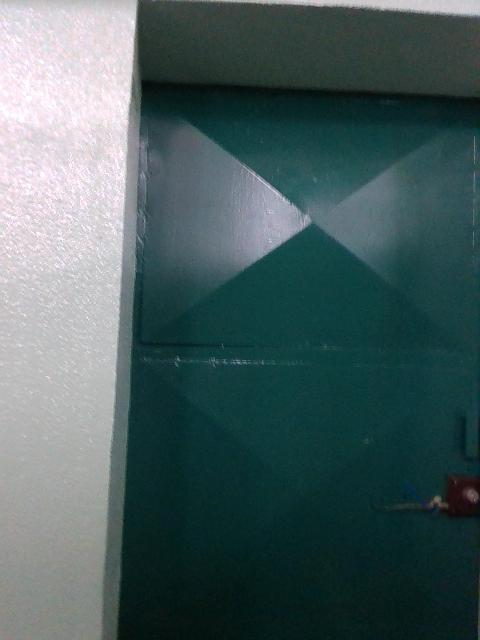closed_door: (116, 79, 479, 636)
